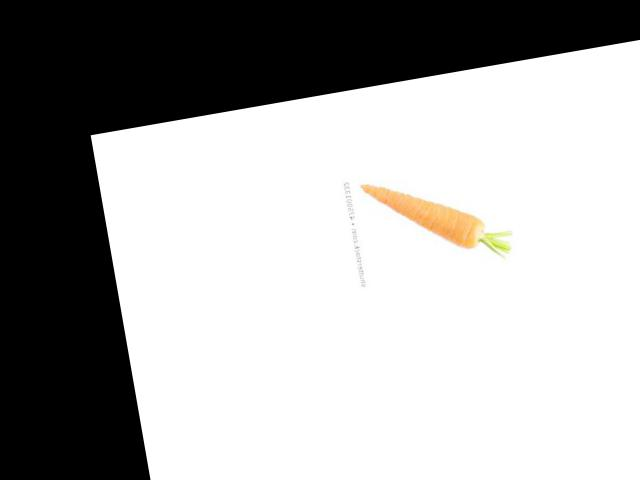carrot: (353, 159, 491, 269)
